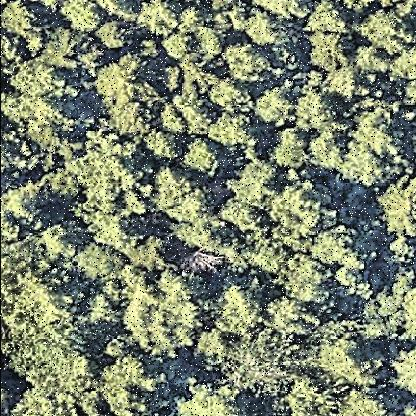tree-top: (47, 126, 157, 252), (121, 267, 211, 361), (1, 335, 102, 416), (156, 167, 242, 261), (1, 236, 81, 336), (232, 327, 300, 395), (347, 109, 407, 186), (91, 52, 147, 133), (99, 352, 169, 416), (362, 265, 416, 340), (315, 332, 385, 385), (266, 176, 326, 234), (305, 233, 371, 281), (1, 93, 69, 139), (13, 58, 75, 106), (219, 280, 268, 340), (284, 371, 348, 416), (375, 178, 416, 244), (40, 29, 98, 74), (1, 183, 51, 235), (359, 8, 413, 55), (177, 376, 239, 416), (265, 293, 321, 337), (229, 159, 281, 205), (1, 128, 41, 187), (284, 253, 332, 302), (4, 1, 48, 54), (128, 1, 180, 45), (225, 39, 269, 85), (310, 29, 354, 75), (255, 87, 299, 131), (182, 137, 224, 179), (75, 240, 119, 280), (387, 342, 416, 402), (239, 8, 284, 46), (193, 324, 233, 366), (59, 1, 107, 35), (294, 92, 336, 130), (211, 75, 253, 113), (211, 109, 253, 147), (306, 131, 348, 169), (310, 1, 352, 35), (145, 128, 181, 162), (96, 19, 132, 53), (163, 29, 195, 60)
